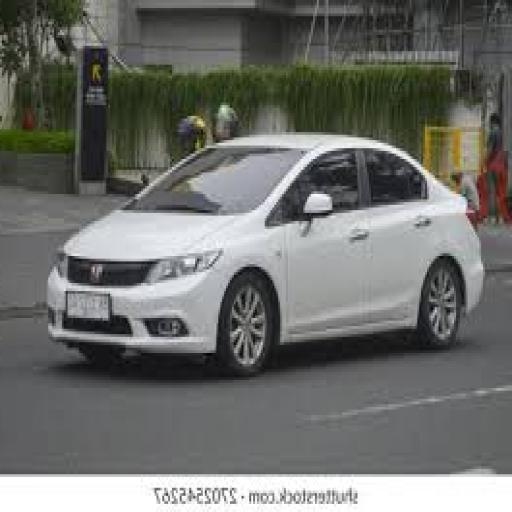License: (60, 289, 120, 317)
